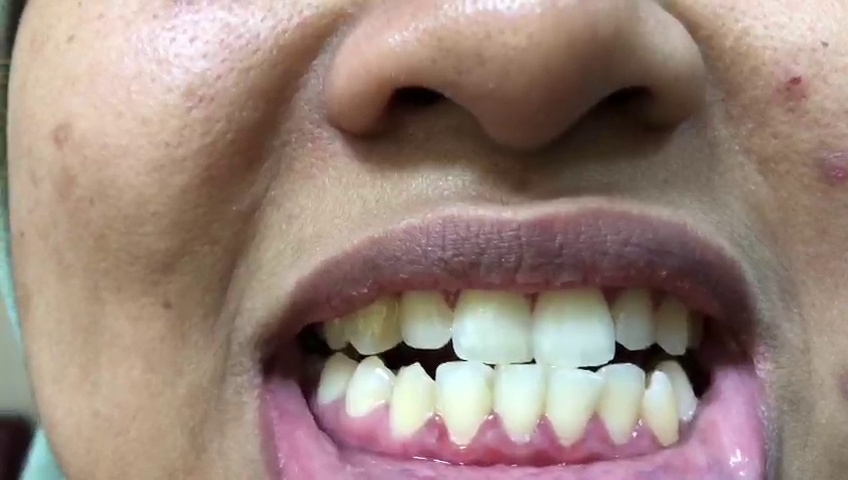1st Premolar: (347, 355, 392, 419), (658, 360, 698, 421)
2nd Premolar: (318, 354, 356, 406)
Canine: (341, 291, 400, 355), (389, 361, 436, 440), (644, 371, 679, 448), (659, 299, 687, 354)
Central Incisor: (533, 282, 616, 367), (452, 281, 536, 363), (496, 362, 549, 445), (550, 368, 594, 446)
Lateral Incisor: (436, 360, 495, 447), (596, 365, 646, 446), (400, 285, 451, 350), (613, 287, 655, 351)
